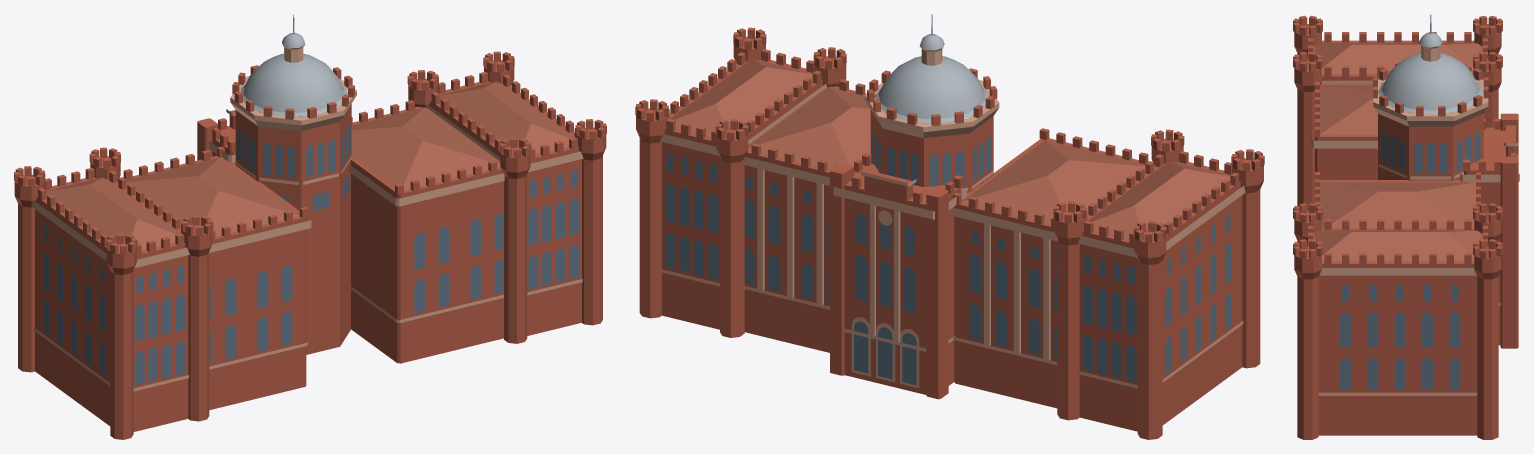
Rendered from istanbul-phanar-greek-college.glb.
3 views of the same model, side by side, from view 1: azimuth 30°, elevation 25°; view 2: azimuth 150°, elevation 25°; view 3: azimuth 270°, elevation 25° (orthographic). The views are drawn at different scales.
Parts seen in each view (by area): view 1: Phanar Greek Orthodox College; view 2: Phanar Greek Orthodox College; view 3: Phanar Greek Orthodox College.
Boxes of the visible parts, left/top/right/bottom form: Phanar Greek Orthodox College: left=14, top=14, right=606, bottom=439; Phanar Greek Orthodox College: left=635, top=14, right=1264, bottom=439; Phanar Greek Orthodox College: left=1293, top=14, right=1519, bottom=439.
Bounding box in the file's own units: 65.52 × 40.1 × 26.61.
